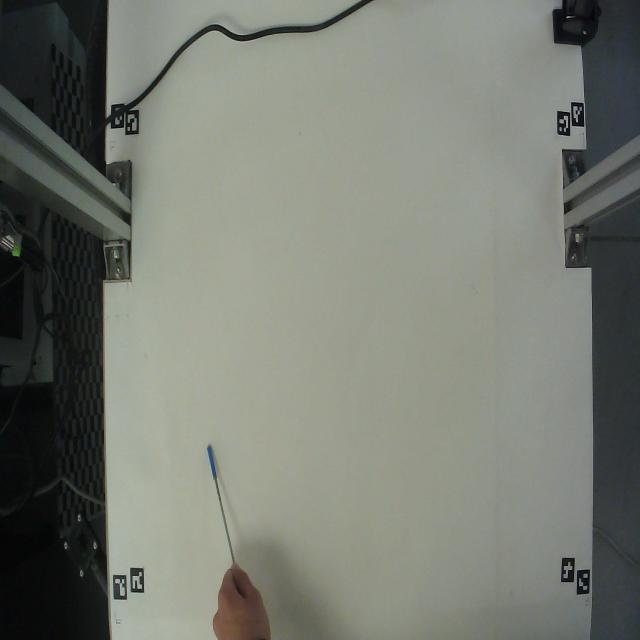Pres: (194, 437, 248, 572)
